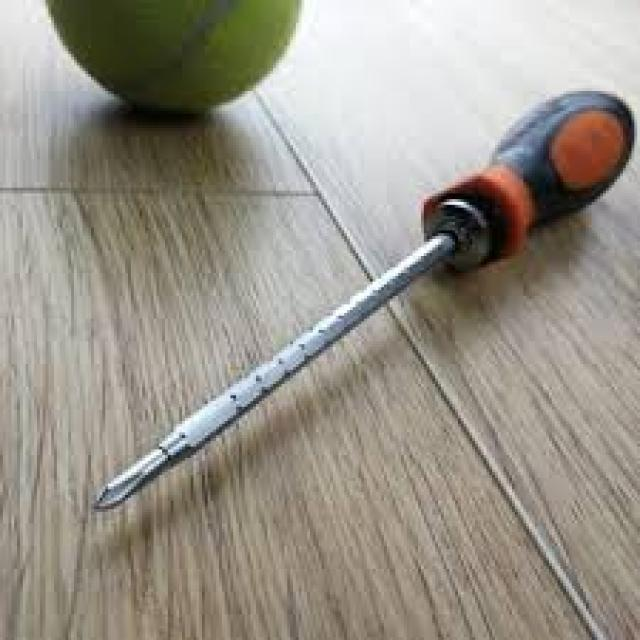screwdriver: (88, 86, 634, 520)
